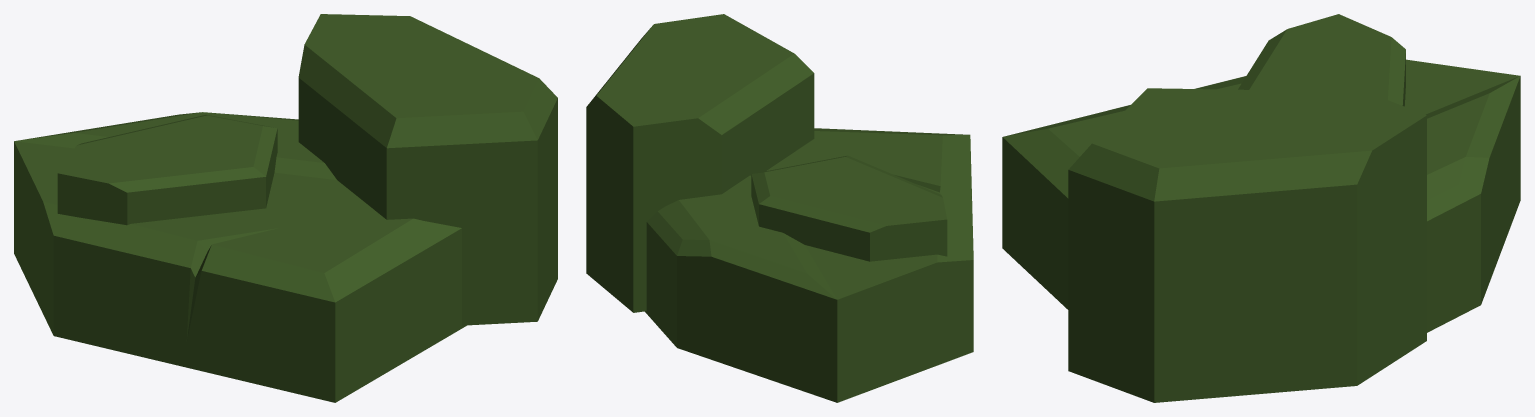
Rendered from lp_Rock_Type1_03_mesh_001_Circle_010.obj.
3 views of the same model, side by side, from view 1: azimuth 30°, elevation 25°; view 2: azimuth 150°, elevation 25°; view 3: azimuth 270°, elevation 25° (orthographic). The views are drawn at different scales.
Visible parts, largest first — view 1: lp_Rock_Type1_03_mesh_001_Circle_010; view 2: lp_Rock_Type1_03_mesh_001_Circle_010; view 3: lp_Rock_Type1_03_mesh_001_Circle_010.
Boxes of the visible parts, box(x1,y1,x2,y2) form: lp_Rock_Type1_03_mesh_001_Circle_010: box(14, 14, 557, 402); lp_Rock_Type1_03_mesh_001_Circle_010: box(586, 14, 973, 402); lp_Rock_Type1_03_mesh_001_Circle_010: box(1002, 14, 1520, 402).
Size of the model in its own units: 3.85 by 1.75 by 3.59.
